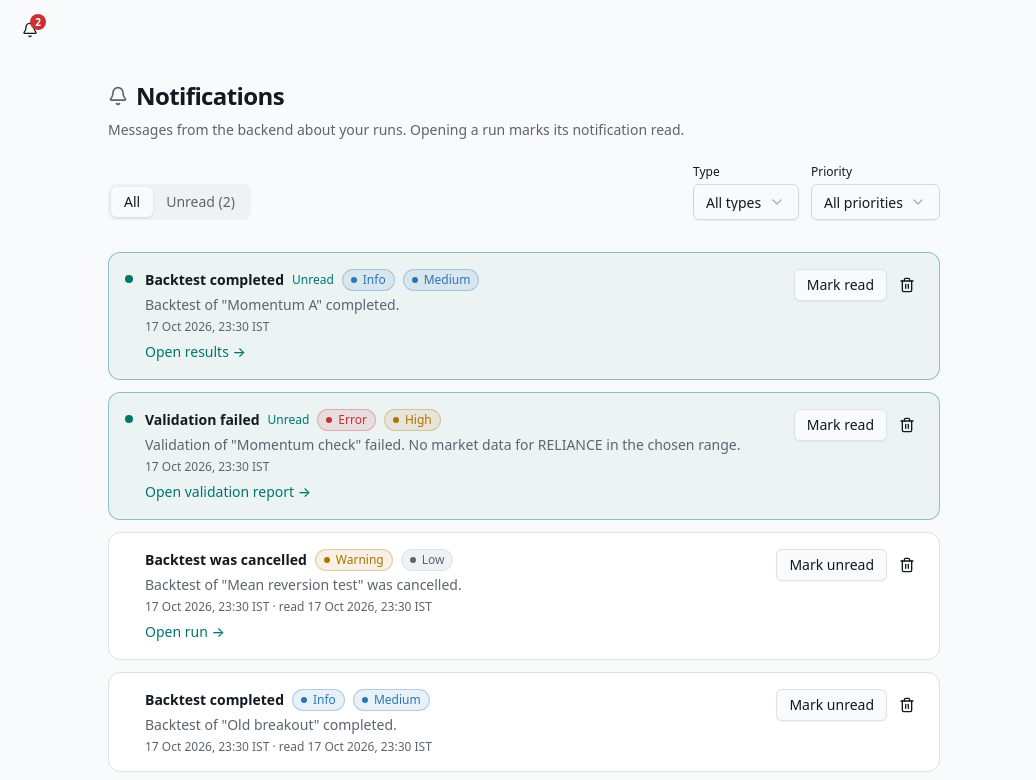
it: NotificationsPage › the Unread tab and the filters are sent to the API and kept in the address
The image size is (1036, 780).
Press the mouse on the tab "Unread (2)": (201, 202) [153,187,248,217]
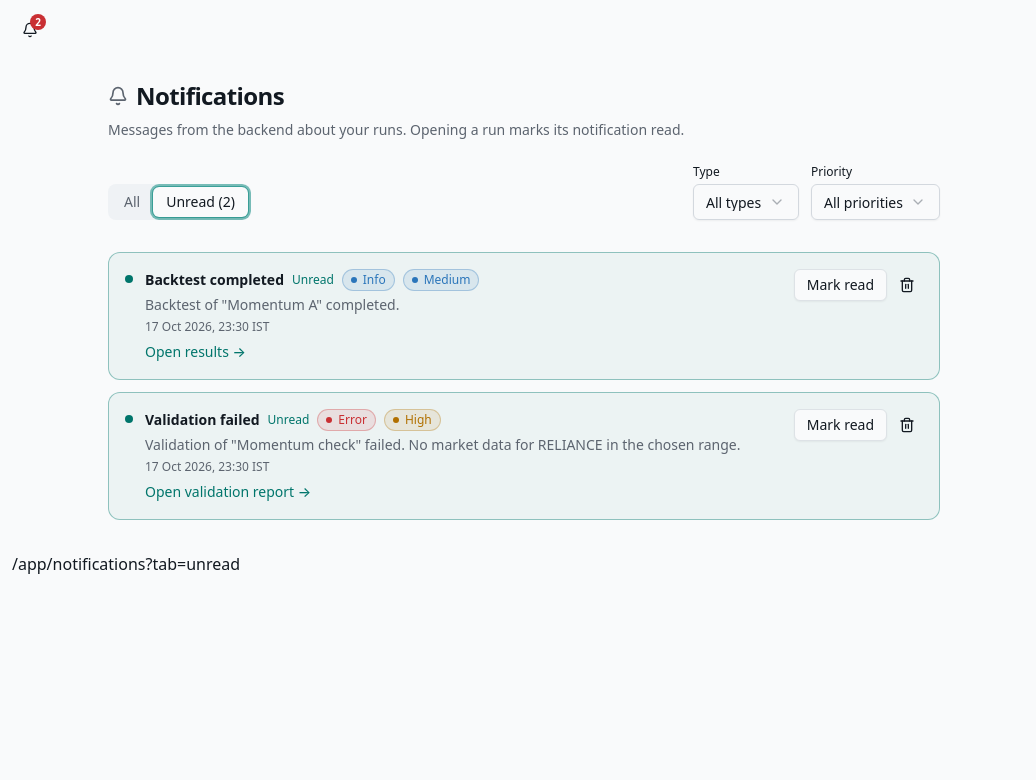
Now the text with test id "where" shows "tab=unread", box [12,553,240,575]
Now the number of list items is 2, box [108,252,940,380]; [108,392,940,520]
Select "Error" in the dropdown labelled "Type": (746, 202) [693,184,799,220]
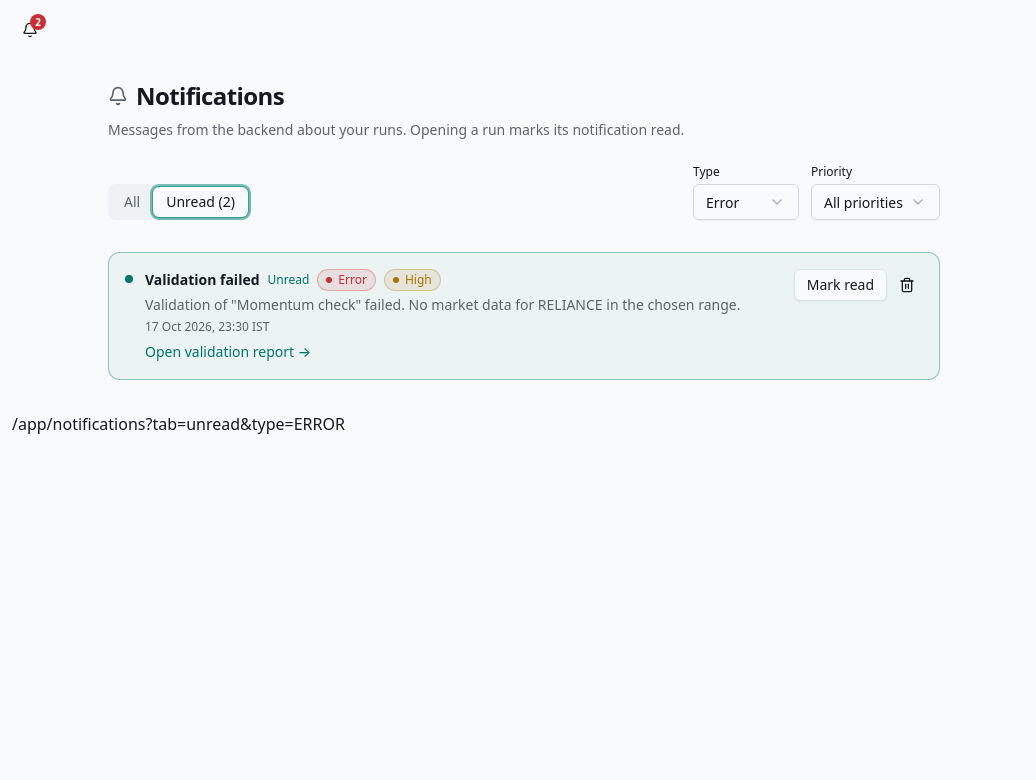
Now the number of list items is 1, box [108,252,940,380]
Select "Low" in the dropdown labelled "Priority": (876, 202) [811,184,940,220]
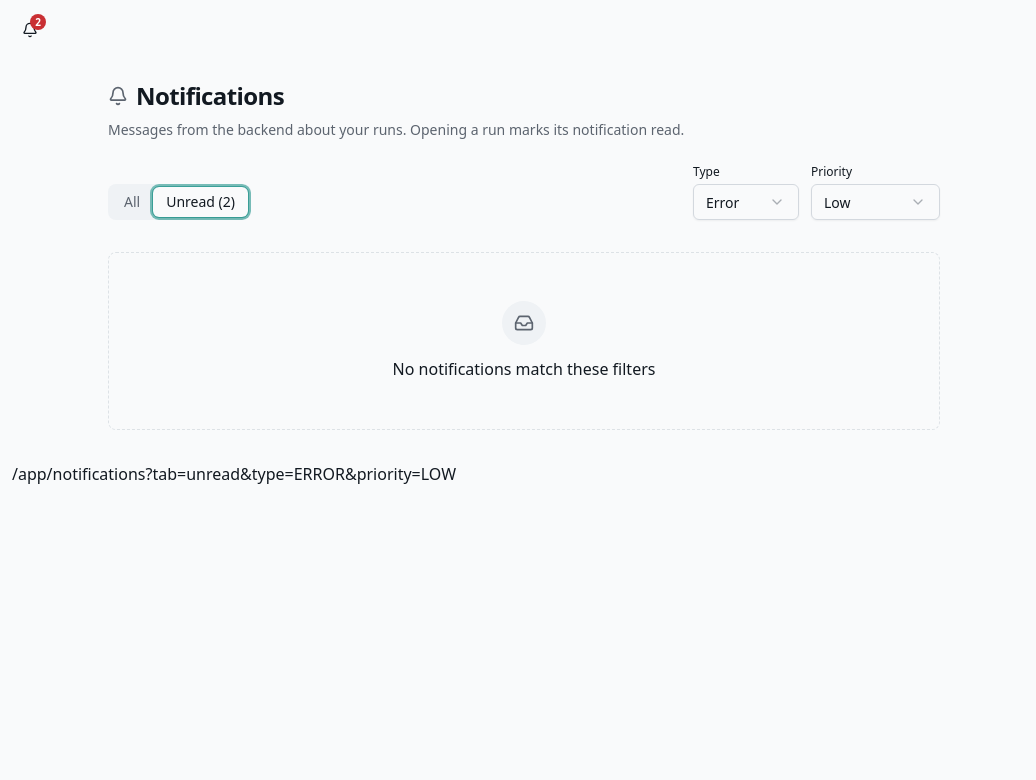
Now the text "No notifications match these filters" is shown, box [393,357,656,381]
Now the text with test id "where" shows "priority=LOW", box [12,463,456,485]
